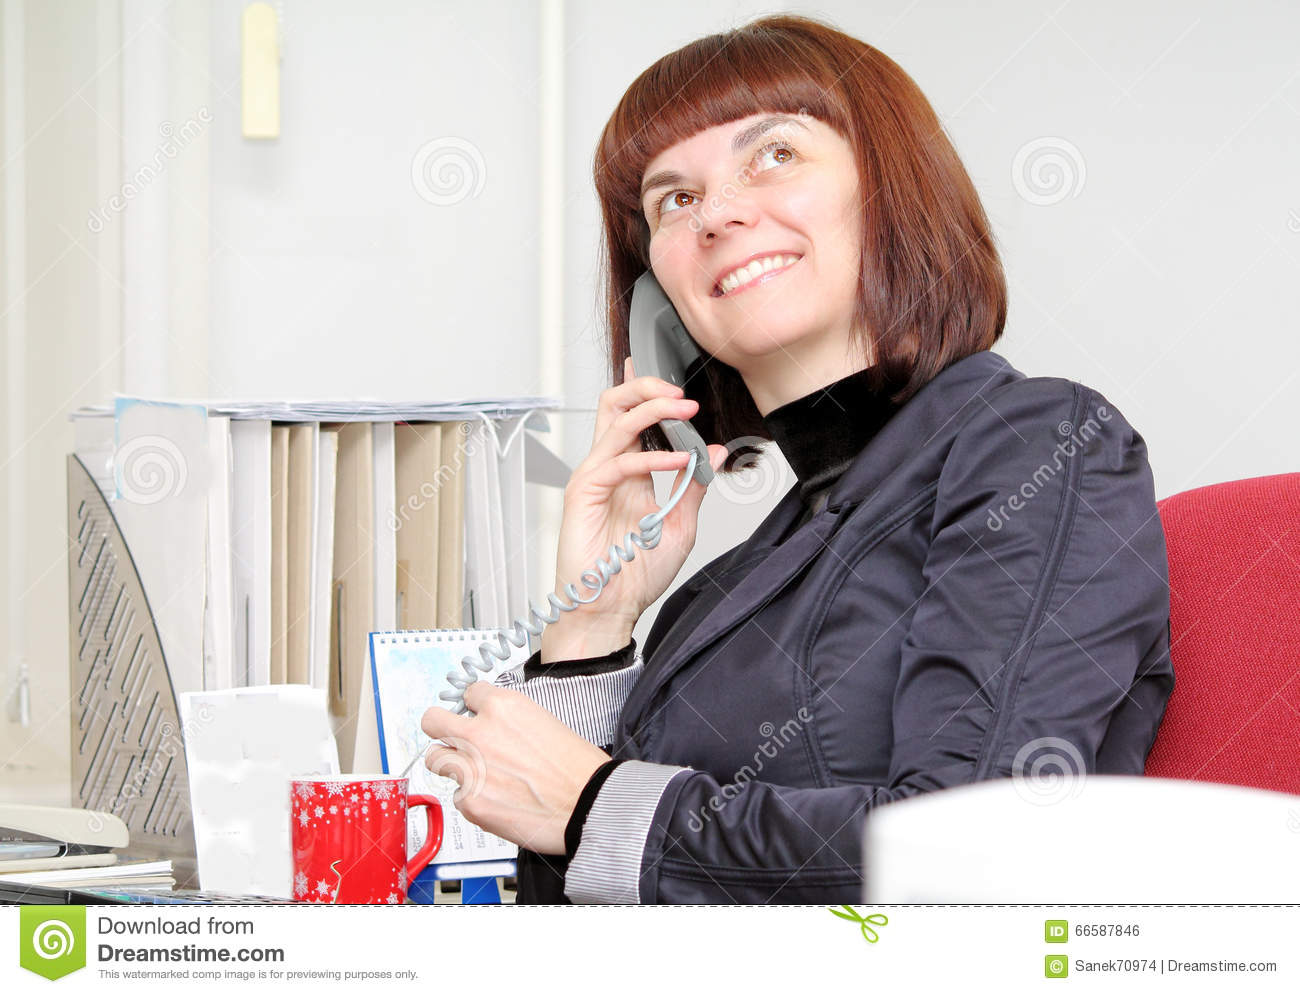phone: (583, 243, 716, 504)
talk: (556, 116, 828, 602)
